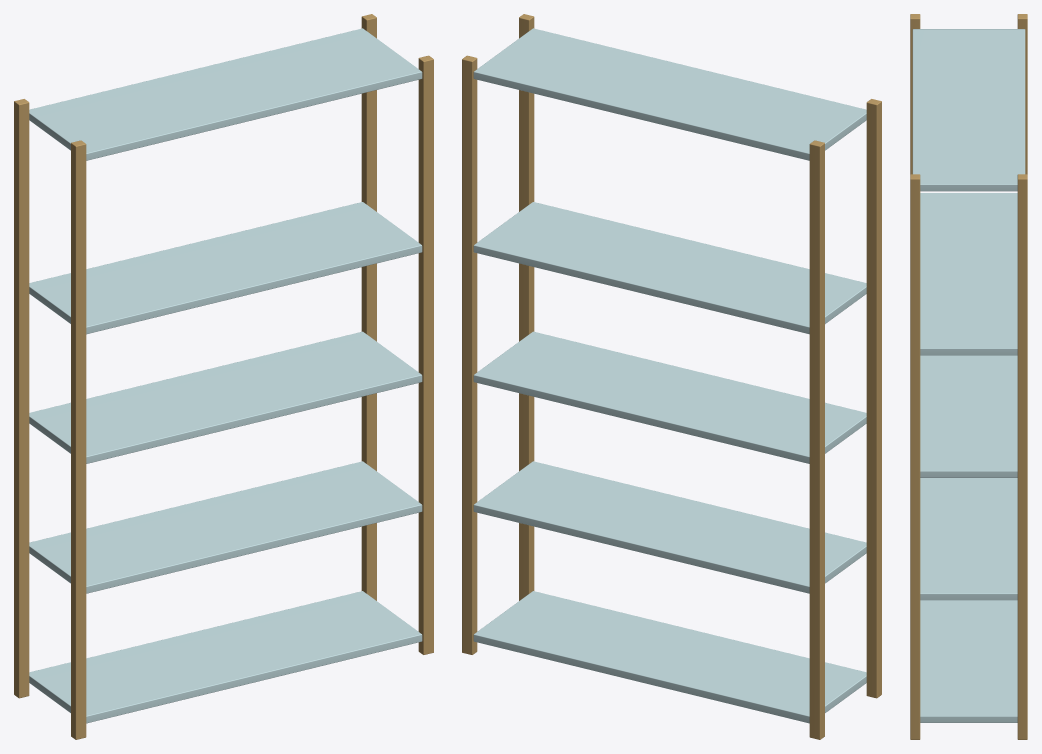
Rendered from shelf-bronze-gallery.glb.
3 views of the same model, side by side, from view 1: azimuth 30°, elevation 25°; view 2: azimuth 150°, elevation 25°; view 3: azimuth 270°, elevation 25° (orthographic). The views are drawn at different scales.
Parts seen in each view (by area): view 1: shelf-bronze-gallery authored assembly; view 2: shelf-bronze-gallery authored assembly; view 3: shelf-bronze-gallery authored assembly.
Part boxes in pixels (x1,y1,x2,y2): shelf-bronze-gallery authored assembly: (14, 14, 433, 739); shelf-bronze-gallery authored assembly: (462, 14, 881, 739); shelf-bronze-gallery authored assembly: (910, 14, 1027, 739).
Bounding box in the file's own units: 1.2 × 1.9 × 0.36.
